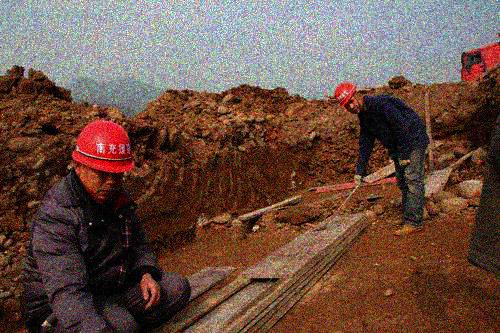helmet: (71, 119, 135, 200), (333, 80, 364, 115)
